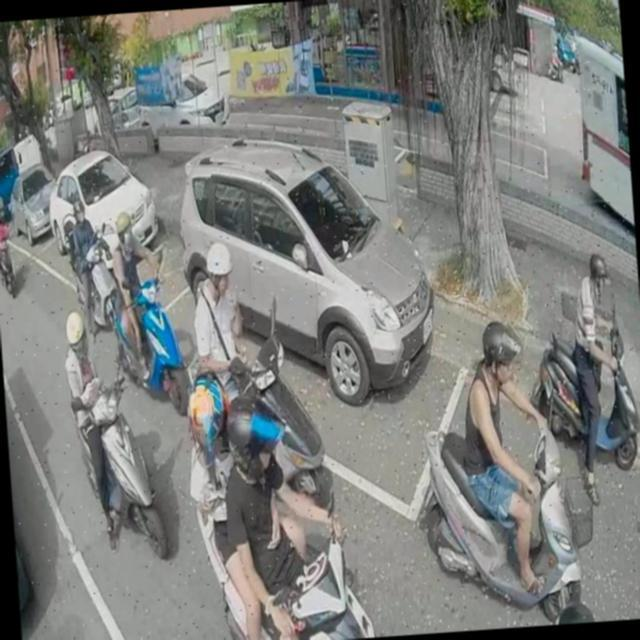person: (218, 388, 355, 640), (186, 363, 308, 640), (455, 308, 564, 604), (562, 245, 634, 494), (64, 299, 128, 555), (187, 234, 254, 411), (109, 200, 167, 382), (62, 196, 107, 338), (548, 584, 596, 624), (0, 208, 13, 282), (548, 44, 560, 76)
